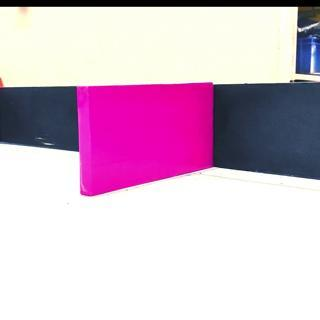xparking: (79, 87, 215, 172)
